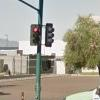Traffic light: (27, 16, 60, 55)
